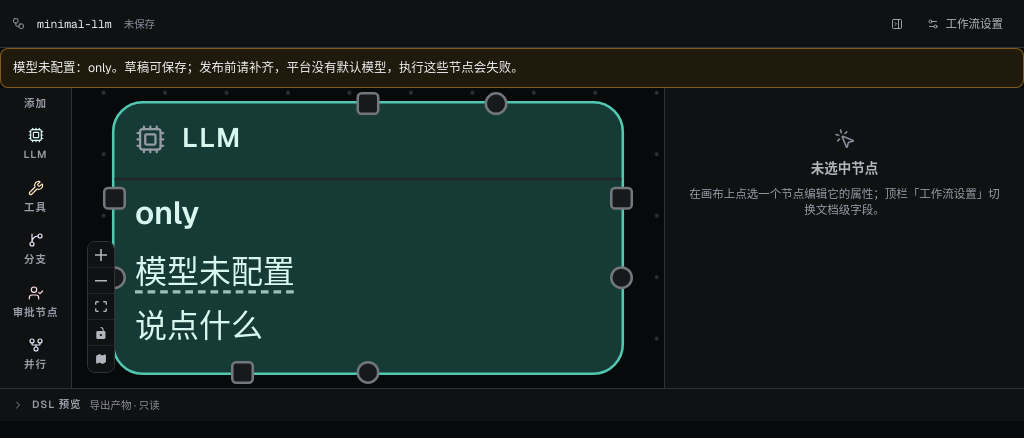
CanvasEditor(画布 UI) › 属性面板可收起(七条反馈 ②):开关在顶栏,收起后整列让给画布且留痕
This screenshot has width=1024, height=438.
Expected: the element named "属性面板" is shown, [664,88,1023,388]
Step 1. Click the button with test id "panel-right-toggle" → (897, 24), box [884,10,910,36]
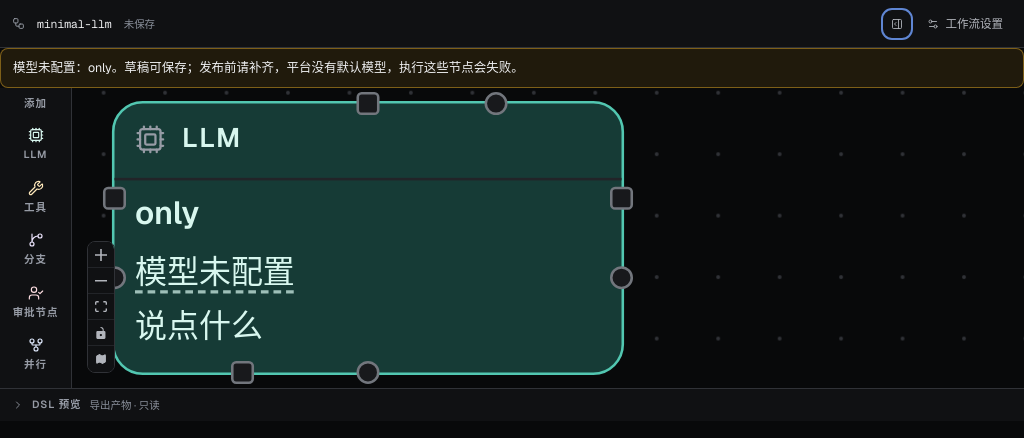
Now the field labelled "属性面板" is gone
Step 2. Click the button with test id "panel-right-toggle" → (897, 24), box [884,10,910,36]
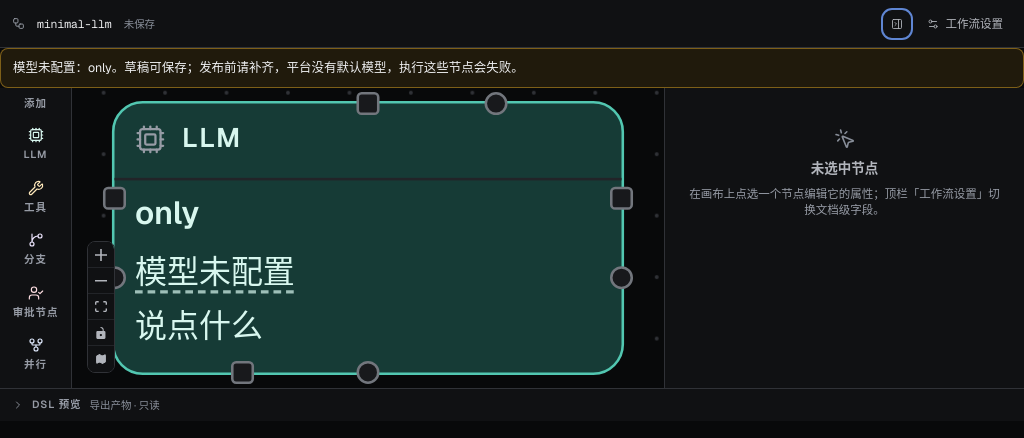
Now the element named "属性面板" is shown, box [664,88,1023,388]
